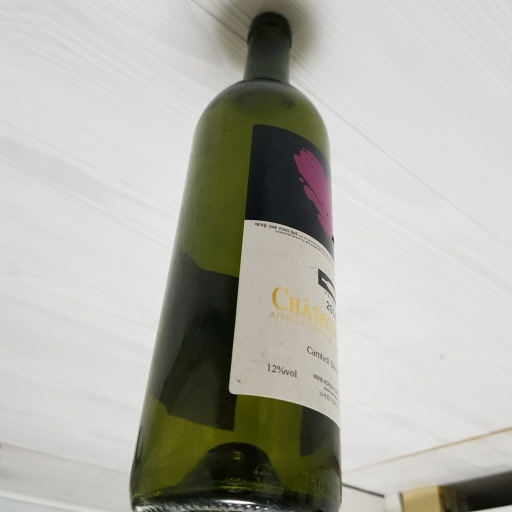Glass_2: (123, 8, 344, 512)
